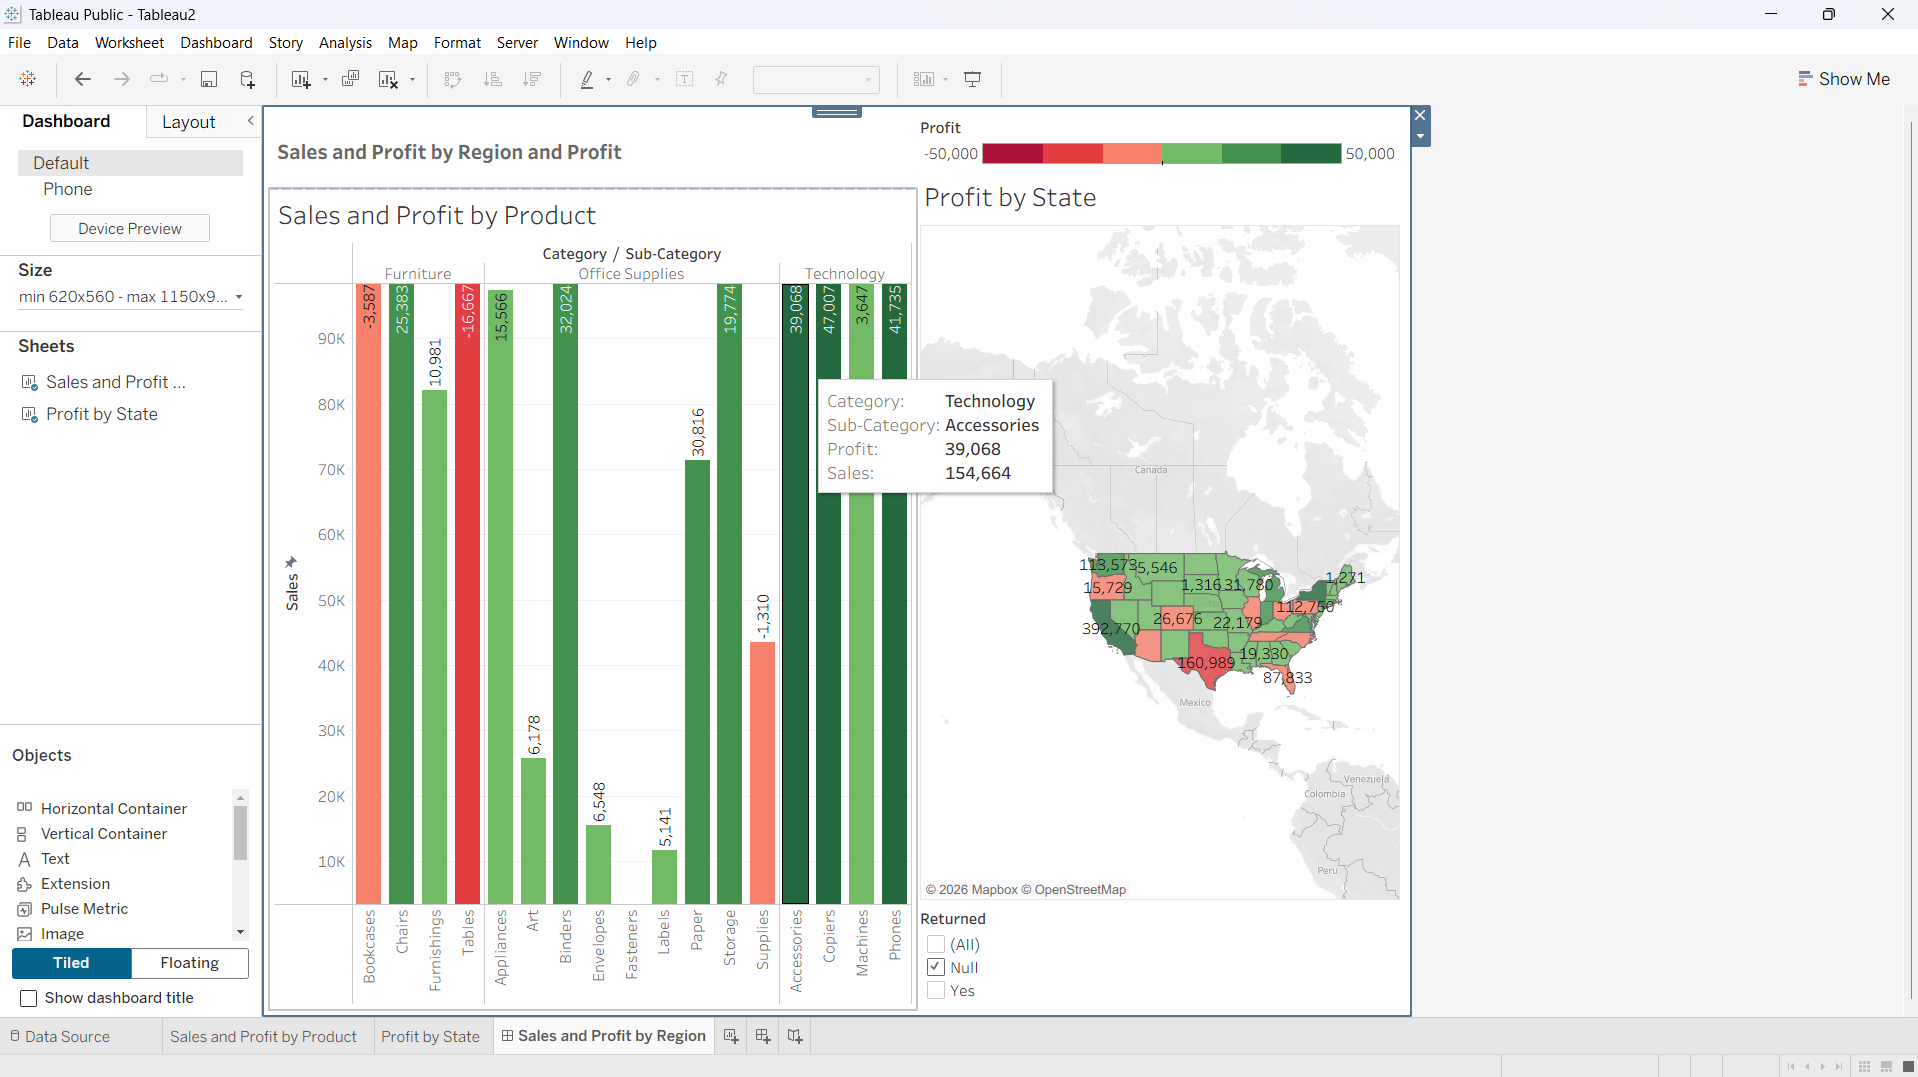

The dashboard page shown, as its layout file describes it:
{"tool":"tableau","page":{"name":"Sales and Profit by Region","canvas":[1000,1000],"units":"permille","ordinal":0},"visuals":[{"type":"text","box":[8.8,14.3,447.4,82.1]},{"type":"legend","title":"Sales and Profit by Product","param":"[federated.1ocq0q90a0jhba1a1ydrt0zzv8wg].[sum:Profit:qk]","box":[456.1,14.3,535.1,103.6]},{"type":"worksheet","title":"Sales and Profit by Product","mark":"Automatic","rows":["Sales"],"cols":["Category","Sub-Category"],"box":[8.8,96.4,447.4,889.3]},{"type":"worksheet","title":"Profit by State","mark":"Automatic","box":[456.1,117.9,535.1,708.9]},{"type":"filter","title":"Sales and Profit by Product","param":"[federated.1ocq0q90a0jhba1a1ydrt0zzv8wg].[none:Returned:nk]","box":[456.1,826.8,535.1,158.9]}]}

Visuals, with their boxes on the dashboard's canvas, which has no fixed pixel size, in thousandths of its width and height (x1, y1, x2, y2). These are canvas units, not pixel positions in the 1918x1077 screenshot, which may show the page scaled, cropped or inside an application window:
text: x1=9 y1=14 x2=456 y2=96
"Sales and Profit by Product" legend: x1=456 y1=14 x2=991 y2=118
"Sales and Profit by Product" worksheet: x1=9 y1=96 x2=456 y2=986
"Profit by State" worksheet: x1=456 y1=118 x2=991 y2=827
"Sales and Profit by Product" filter: x1=456 y1=827 x2=991 y2=986
